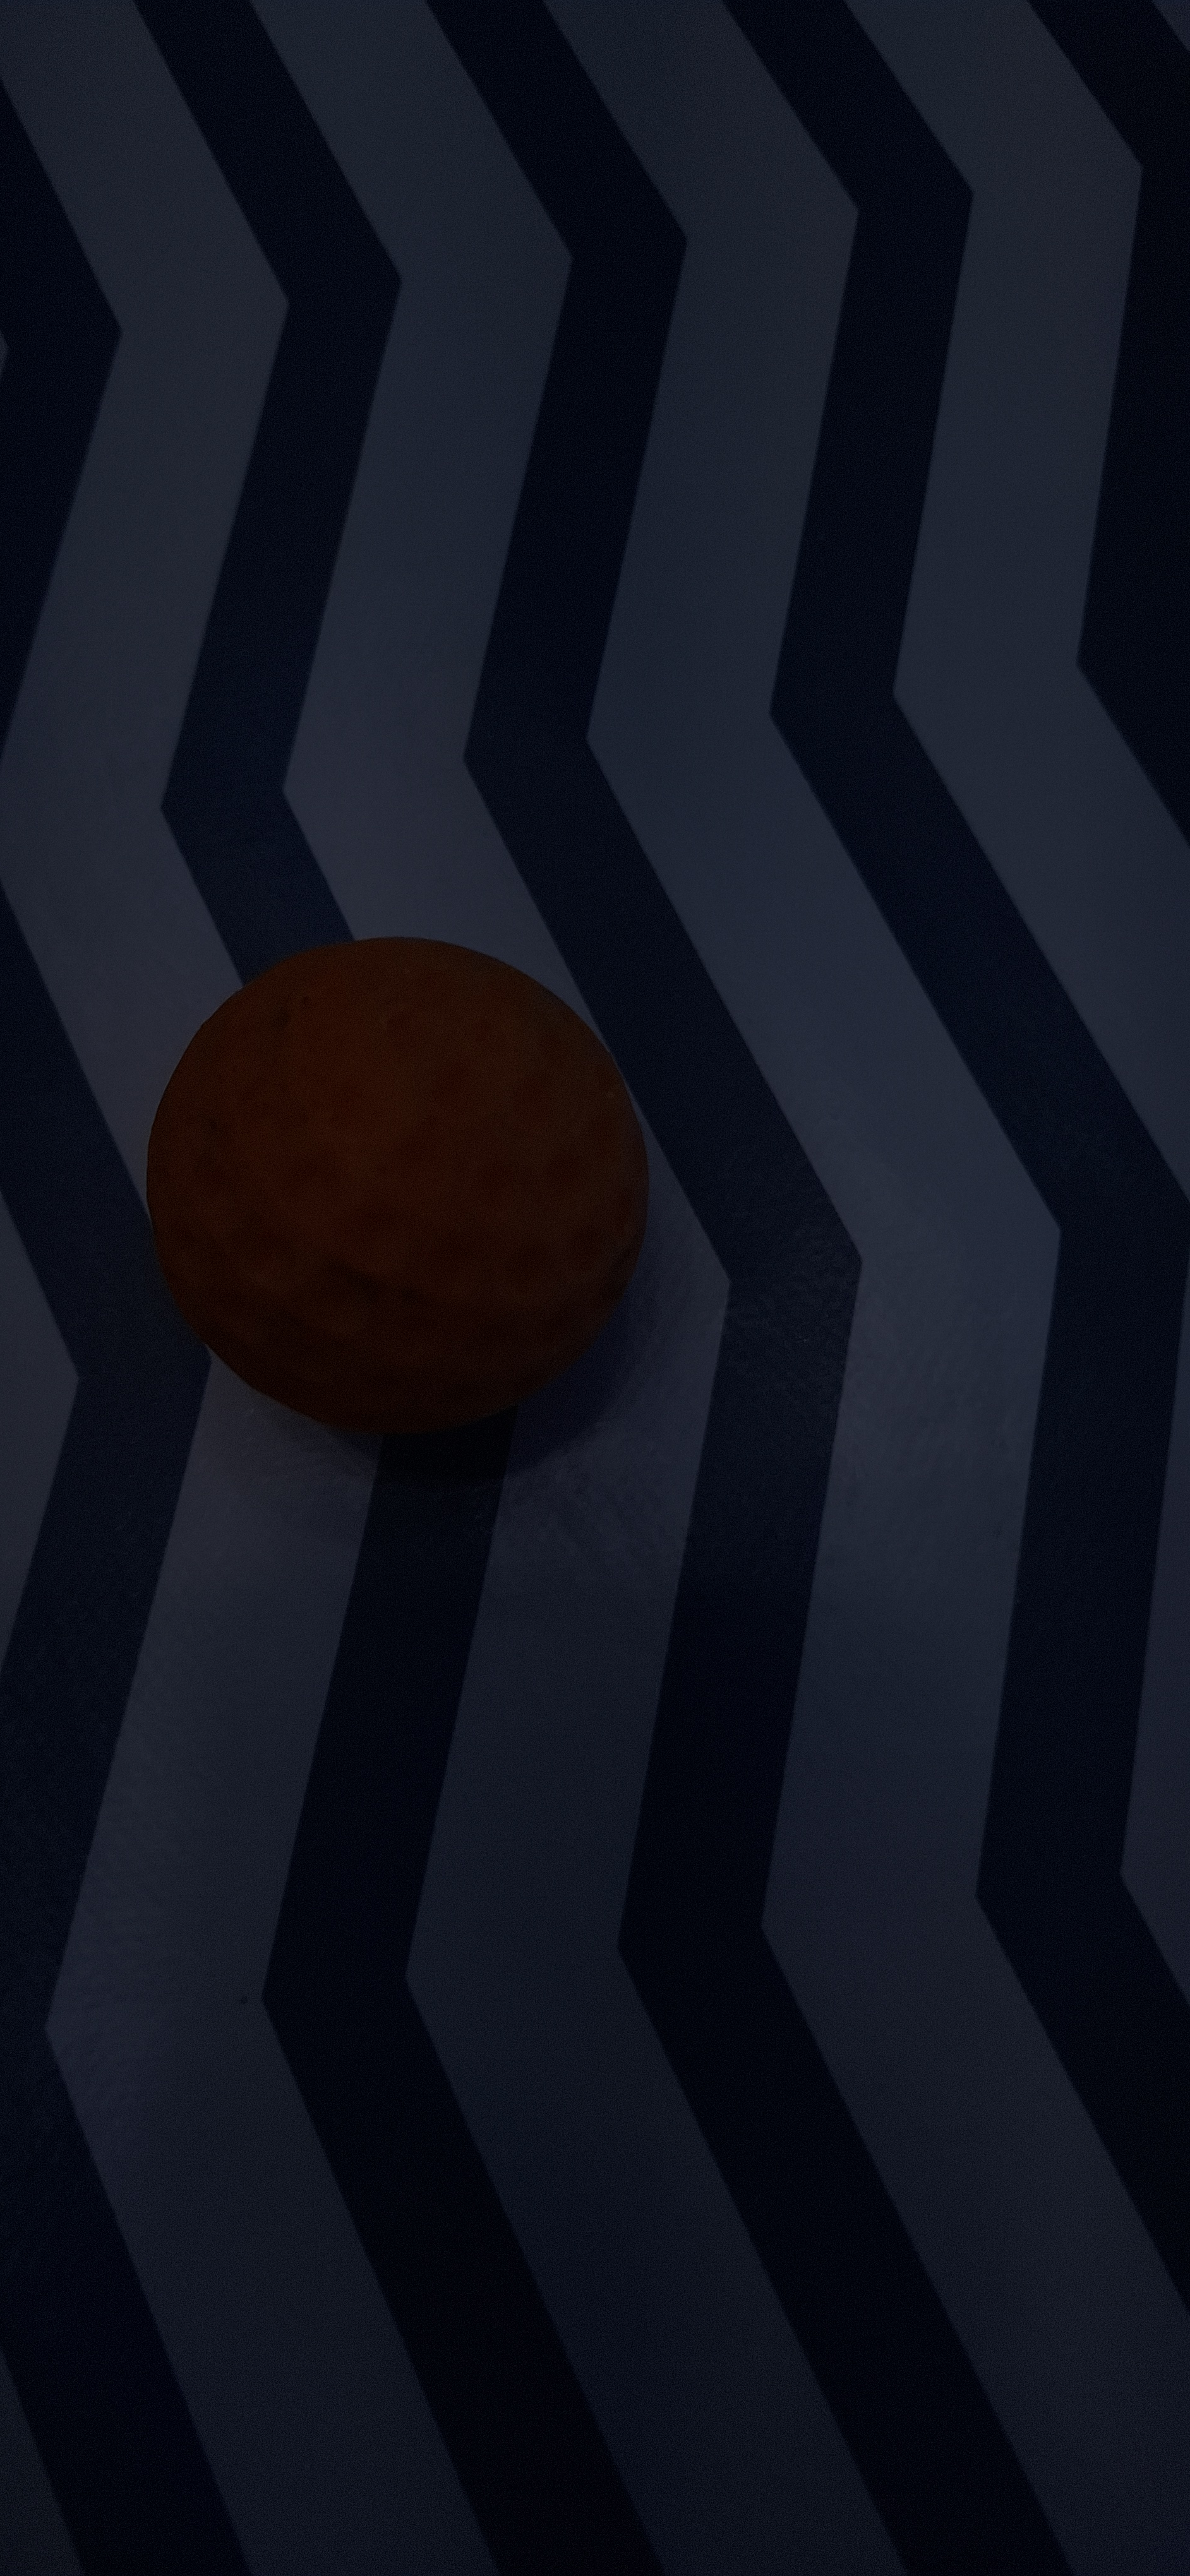ball: (436, 1171, 659, 2267)
